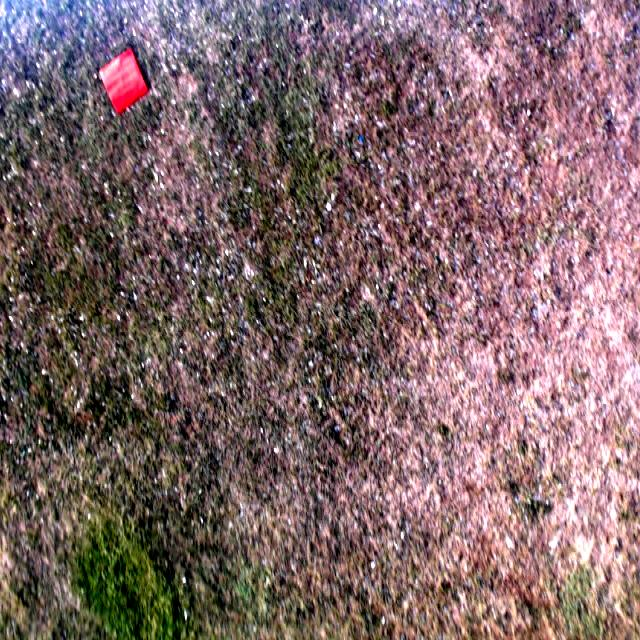red_square: (99, 50, 148, 113)
